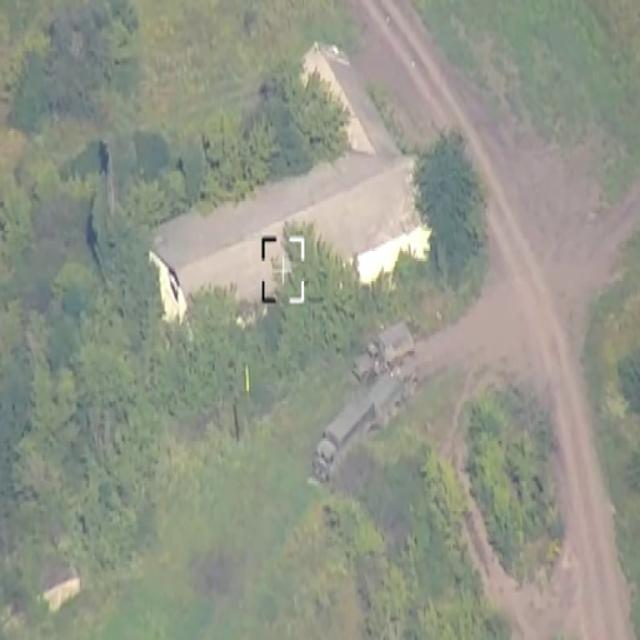TRUCK: (311, 384, 371, 486), (352, 317, 413, 382), (369, 362, 415, 432)
